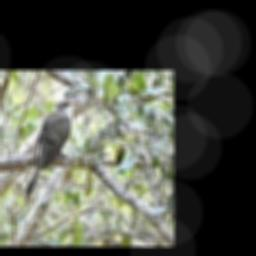Cuckoo: (24, 99, 76, 199)
